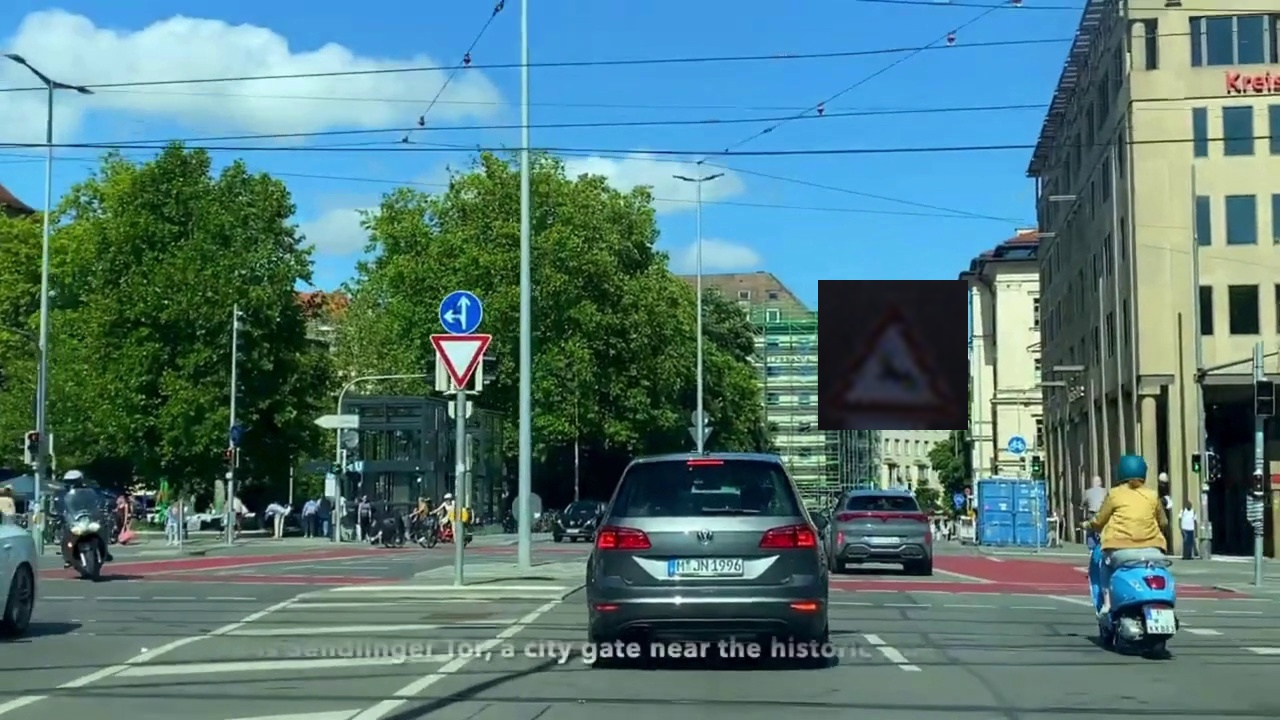Wild animals: (818, 280, 968, 430)
